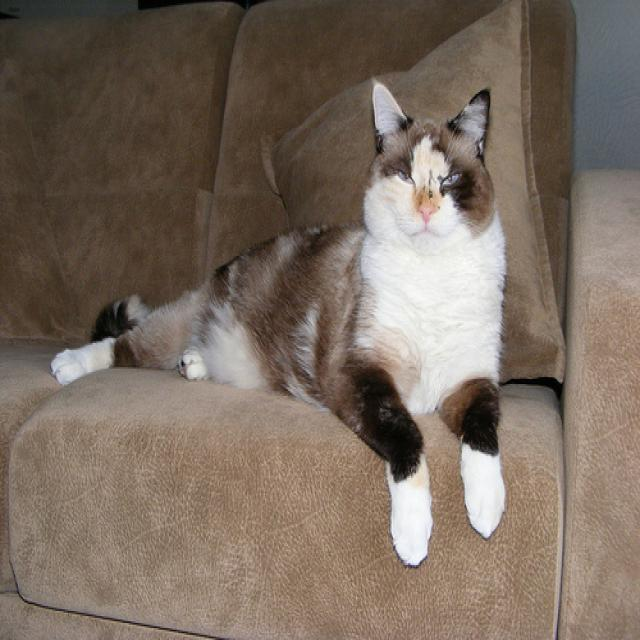Ragdoll: (361, 74, 511, 252)
